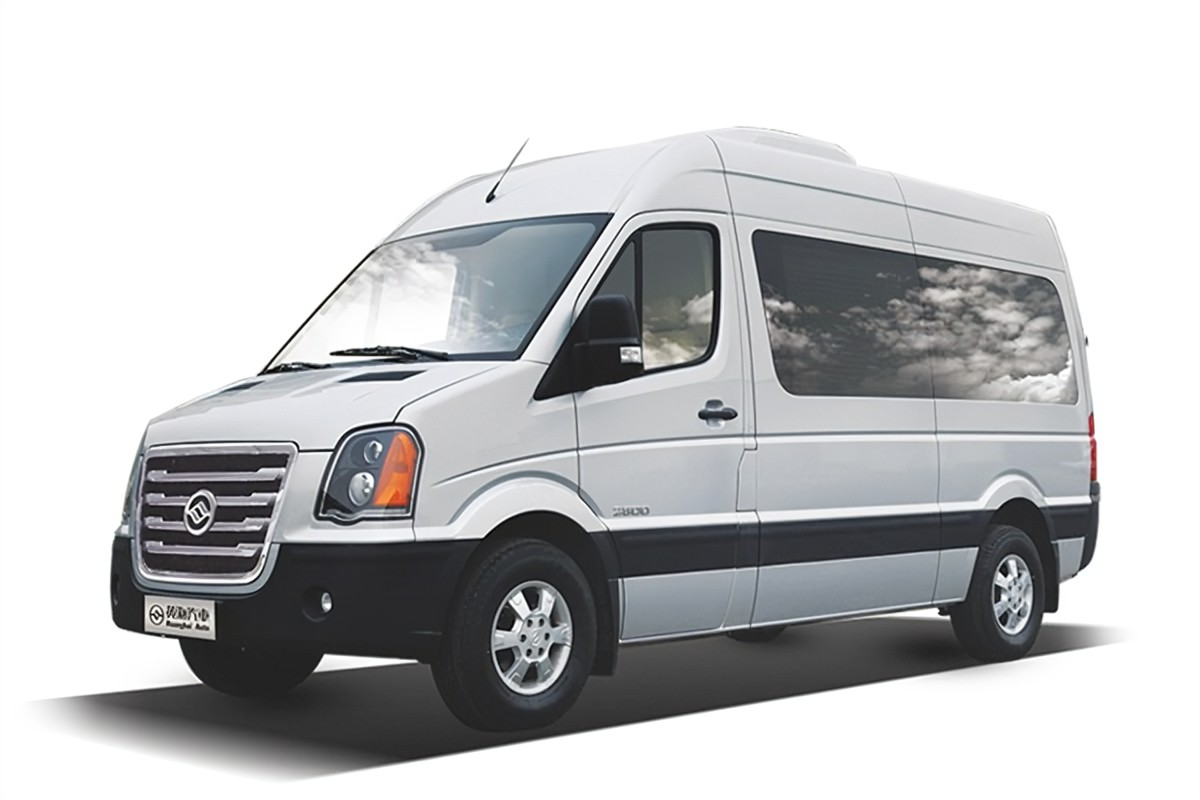midcar: (94, 122, 1131, 708)
